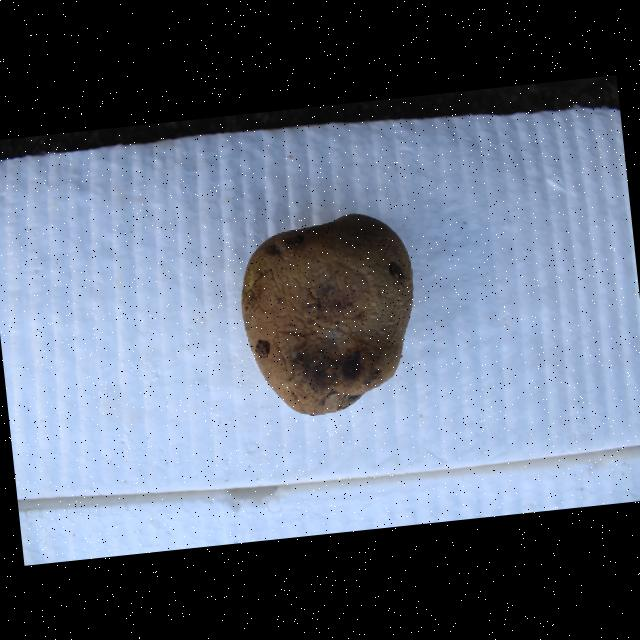Diseased-fungal potato: (232, 203, 427, 424)
